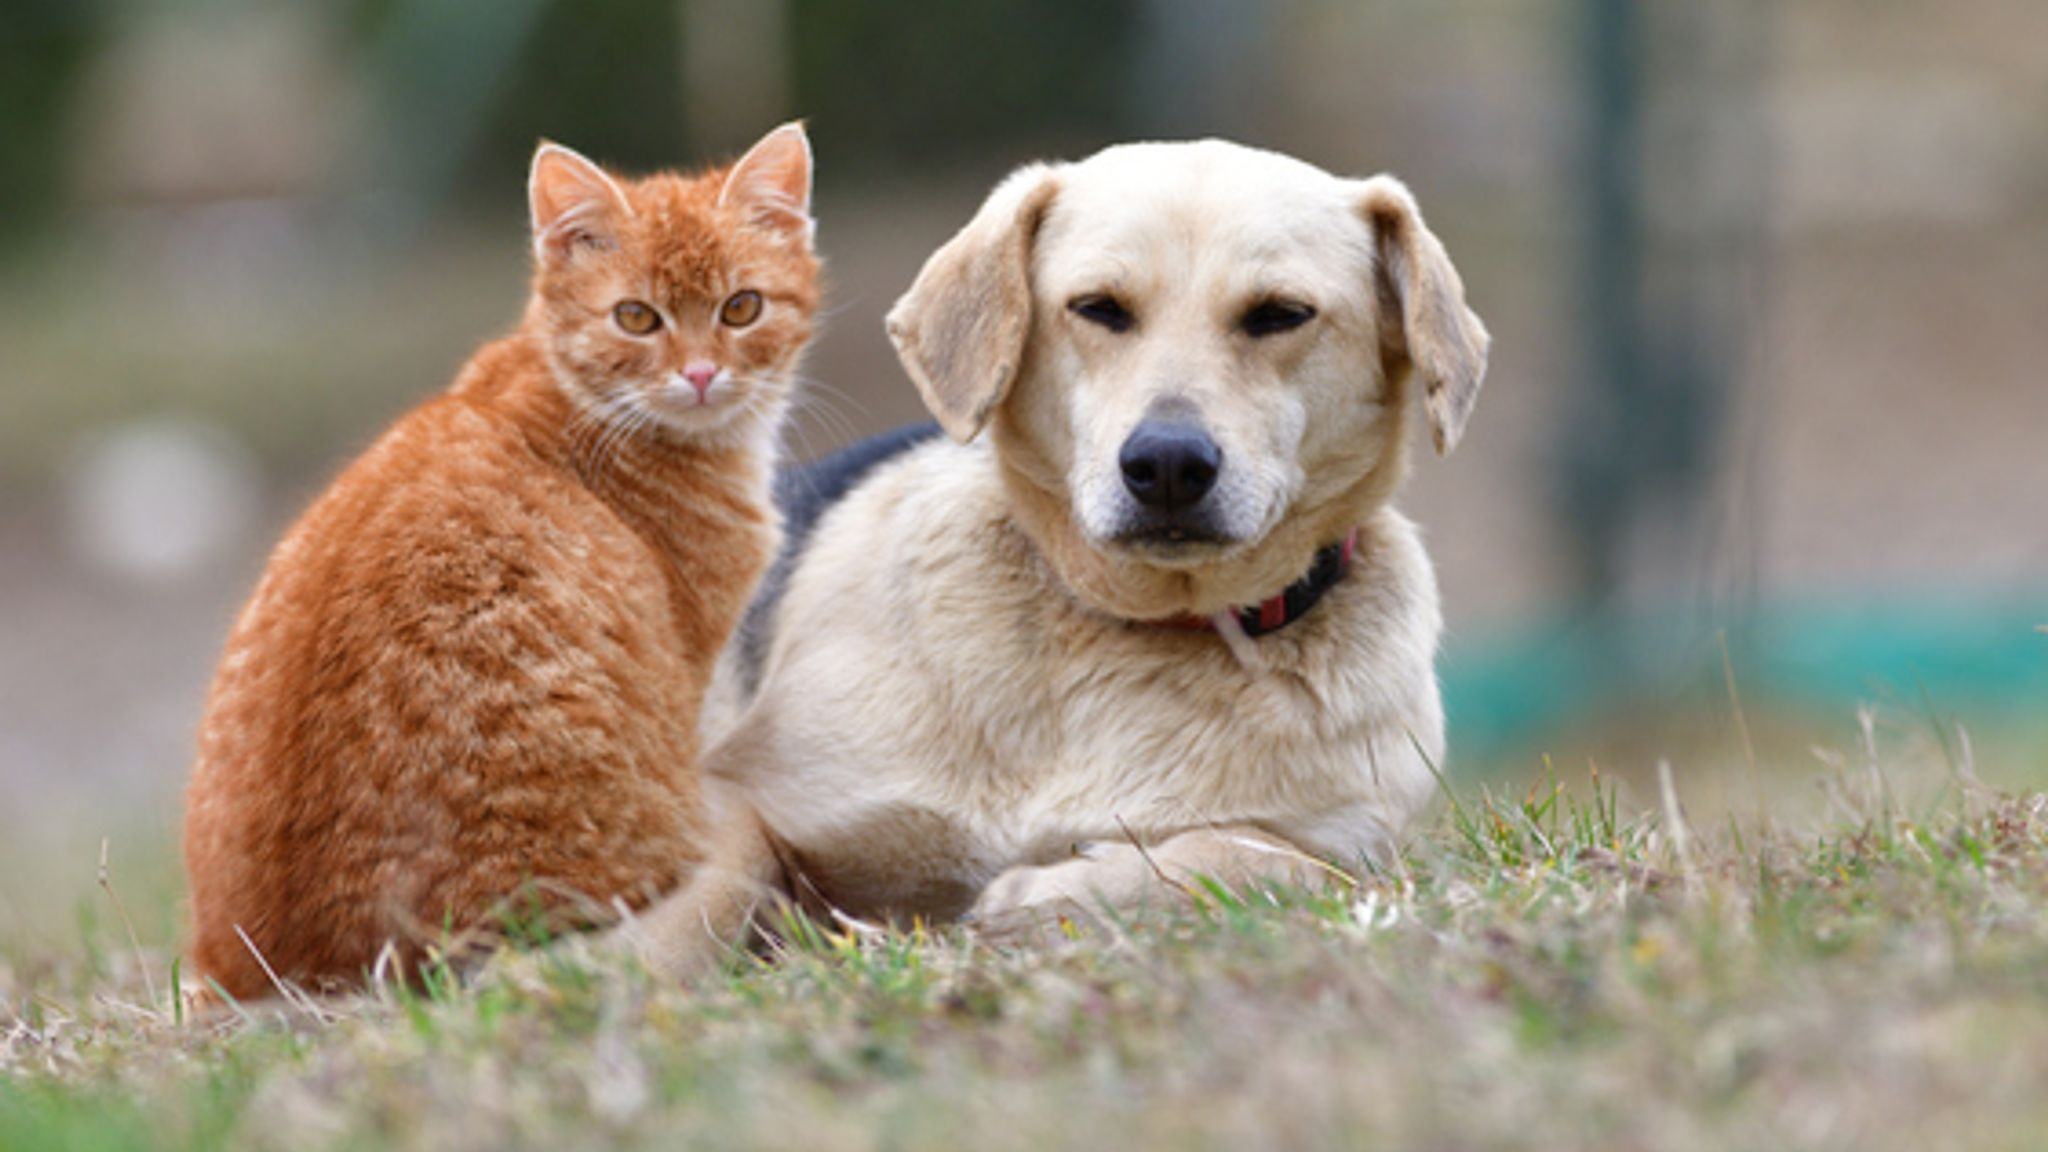cat: (475, 72, 840, 468)
dog: (878, 86, 1497, 654)
